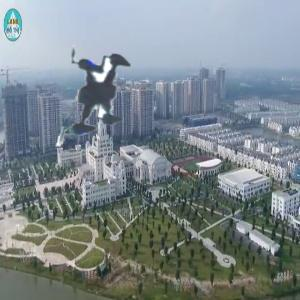drone: (10, 6, 186, 182)
